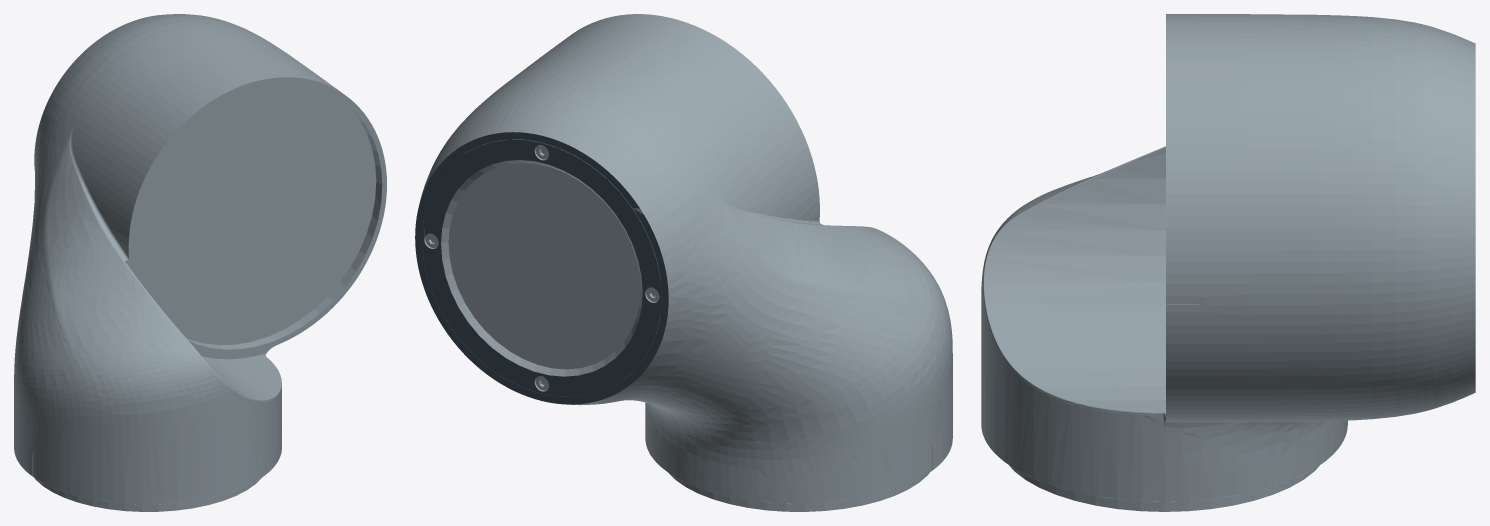
3 renders of one model, left to right at view 1: azimuth 30°, elevation 25°; view 2: azimuth 150°, elevation 25°; view 3: azimuth 270°, elevation 25°, orthographic. The views are drawn at different scales.
Visible parts, largest first — view 1: link4; view 2: link4; view 3: link4.
Boxes of the visible parts, x1,y1,x2,y2 form: link4: (14,14,386,511); link4: (415,14,952,511); link4: (981,14,1475,511).
Bounding box in the file's own units: 0.17 × 0.1611 × 0.1496.
